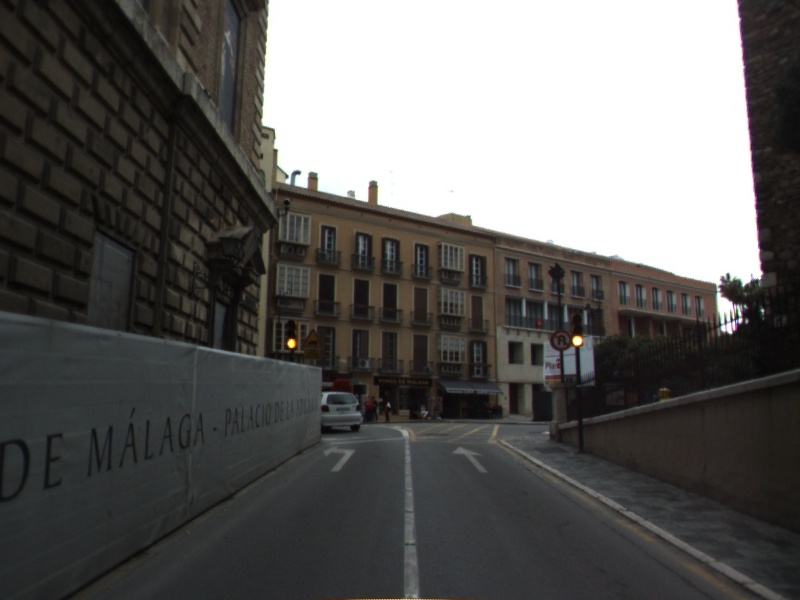LEFT: (321, 444, 357, 473)
STRAIGHT: (450, 444, 489, 474)
